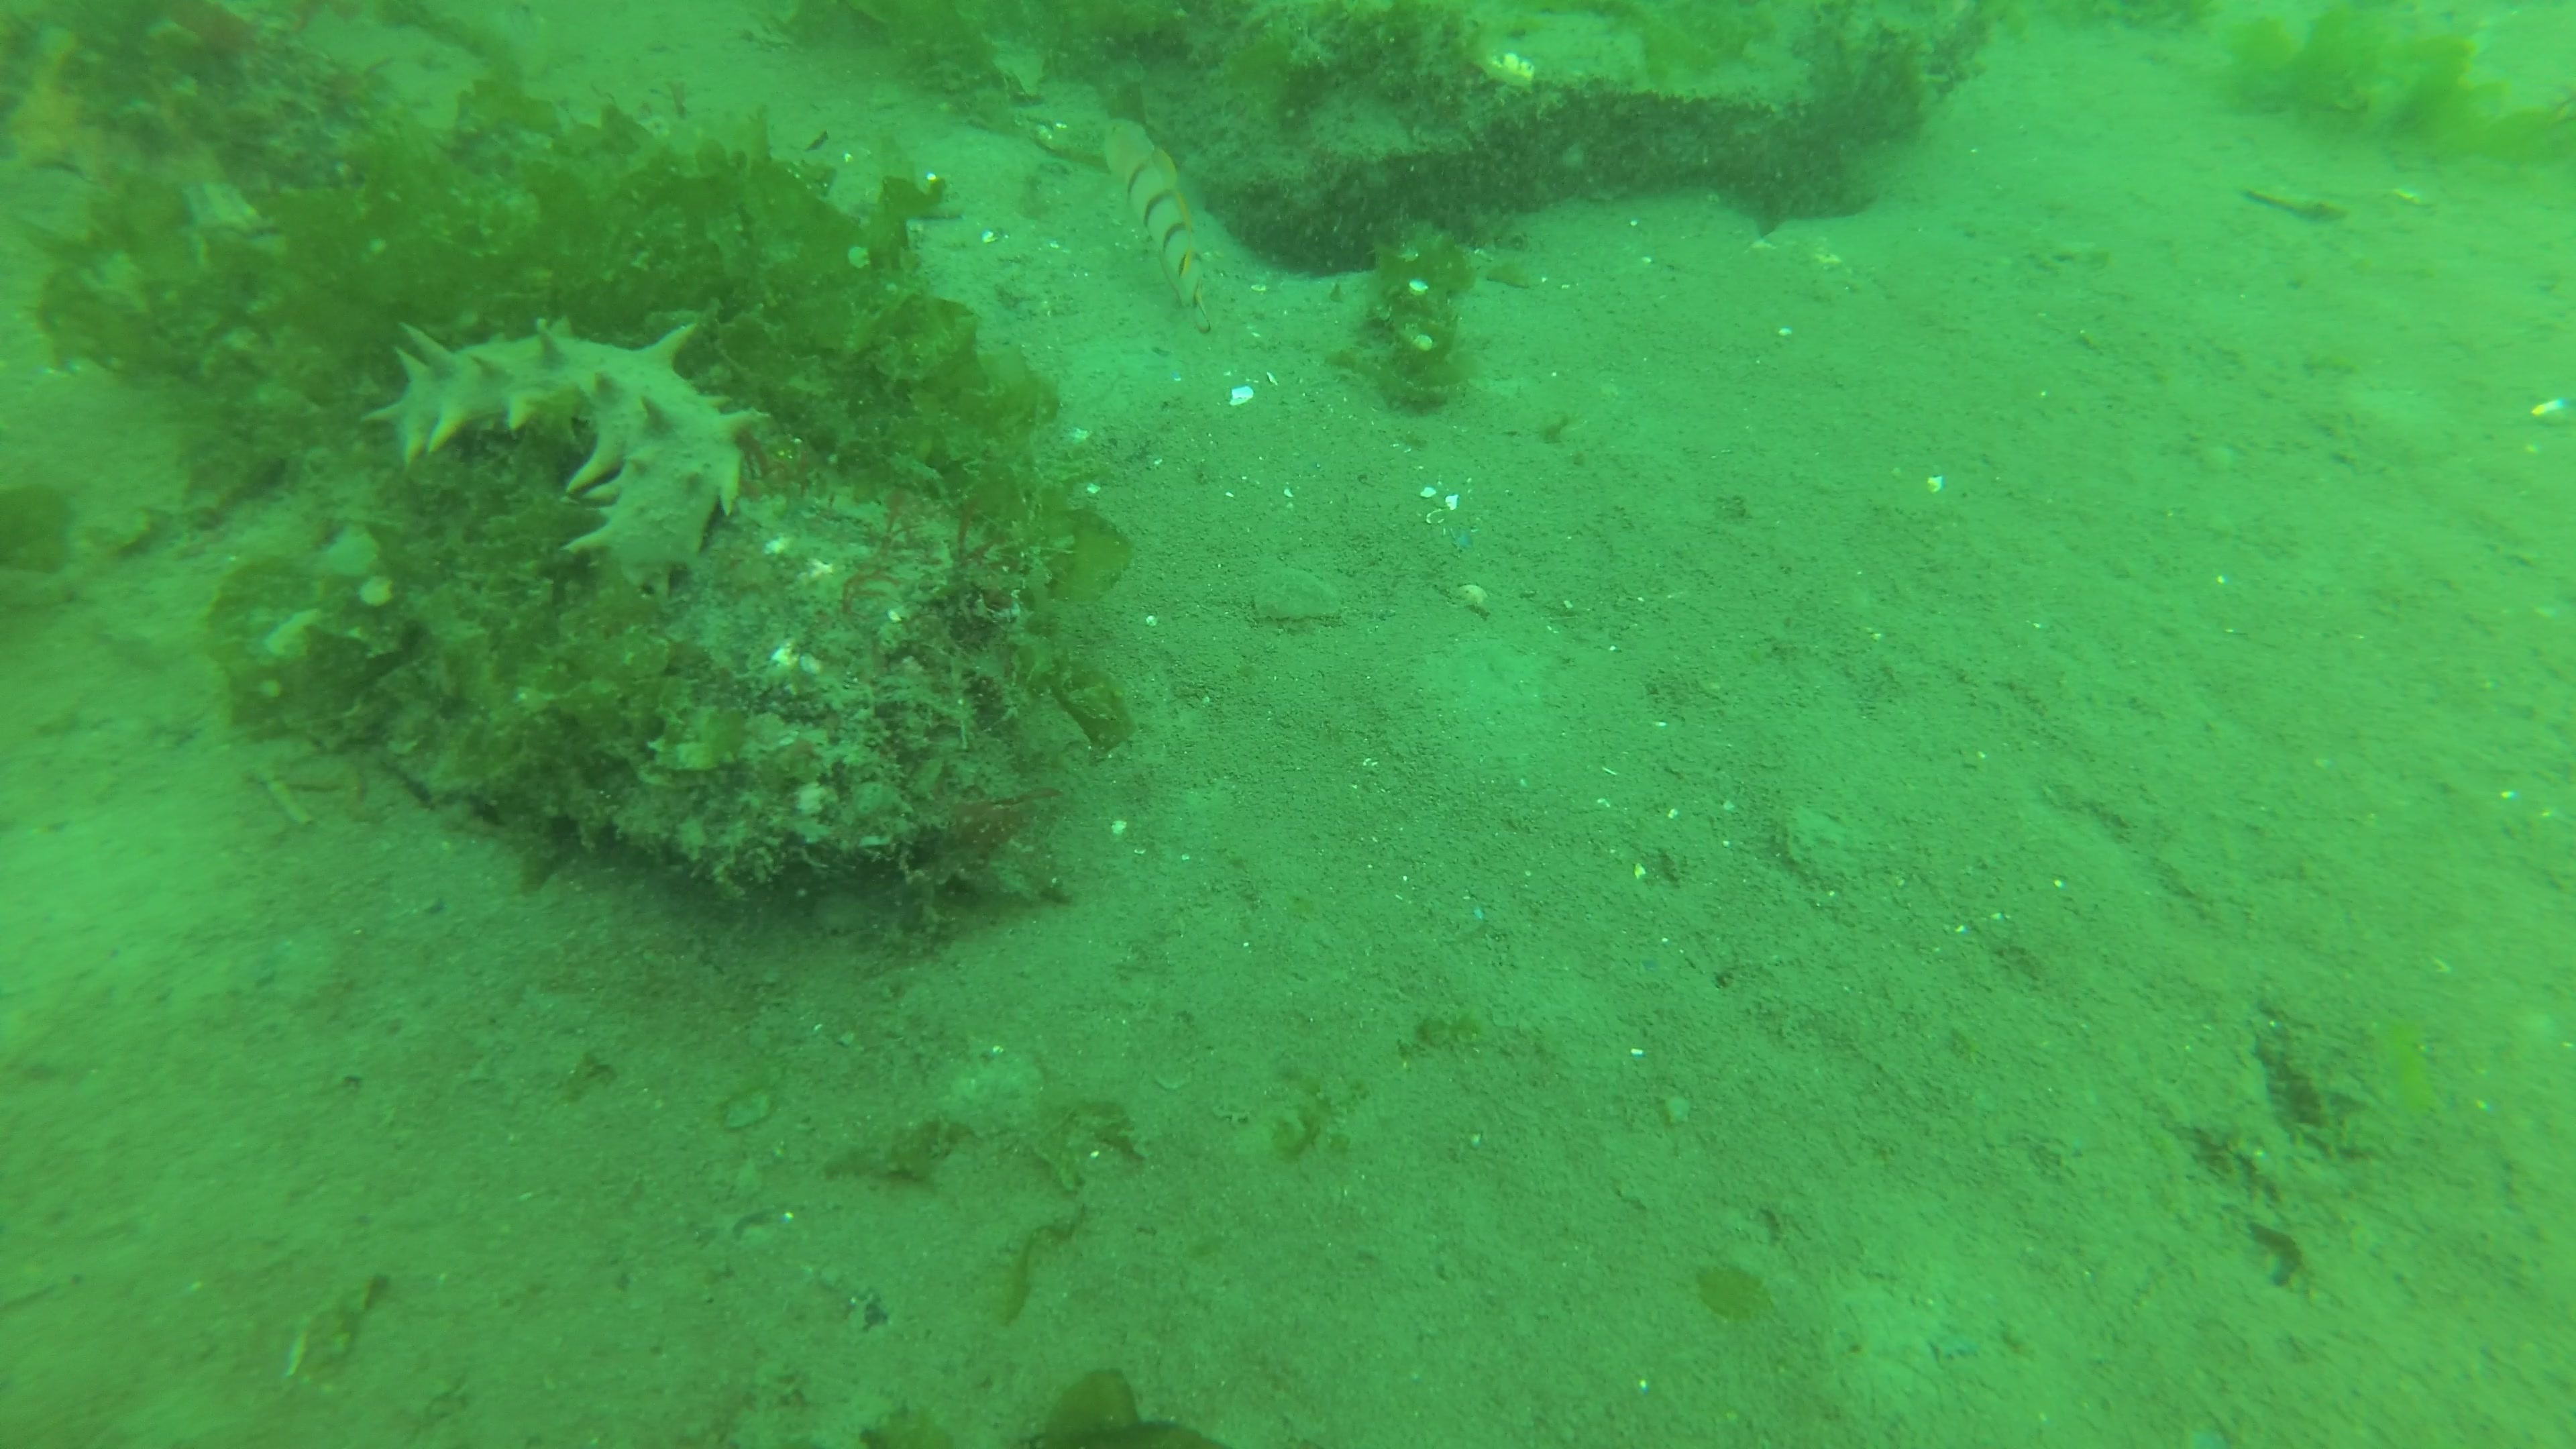holothurian: (357, 317, 770, 596)
